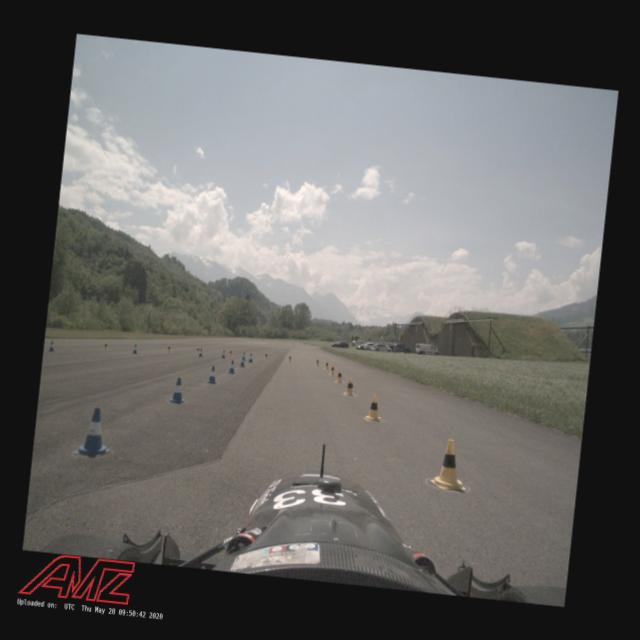blue_cone: (73, 404, 114, 458), (168, 376, 186, 404), (206, 365, 218, 384), (227, 359, 236, 374), (238, 356, 246, 368), (48, 340, 56, 352), (197, 347, 204, 357), (132, 343, 138, 354), (240, 351, 247, 360), (248, 353, 254, 363), (220, 349, 226, 358)
yellow_cone: (429, 437, 469, 492), (364, 393, 384, 422), (342, 378, 357, 398), (334, 369, 344, 384), (328, 364, 336, 375), (102, 342, 109, 351), (166, 343, 172, 352), (324, 360, 329, 370), (314, 358, 320, 366), (263, 352, 268, 359), (288, 354, 292, 362), (228, 348, 232, 356), (196, 346, 200, 354)
